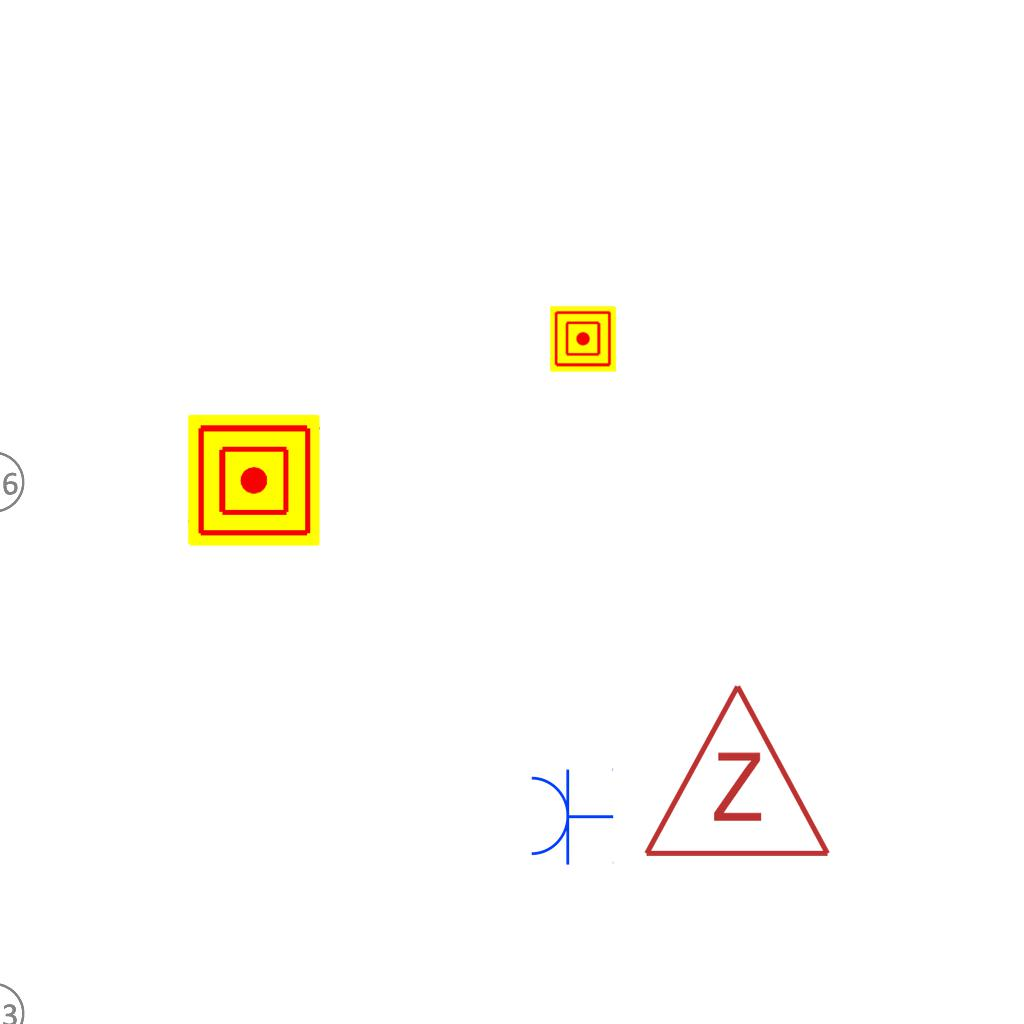NAM-Nichtautomatischer_Melder: (188, 414, 320, 546), (550, 306, 616, 372)
Schukosteckdose_einfach: (527, 766, 614, 866)
Zimmersignalleuchte: (637, 671, 833, 871)
